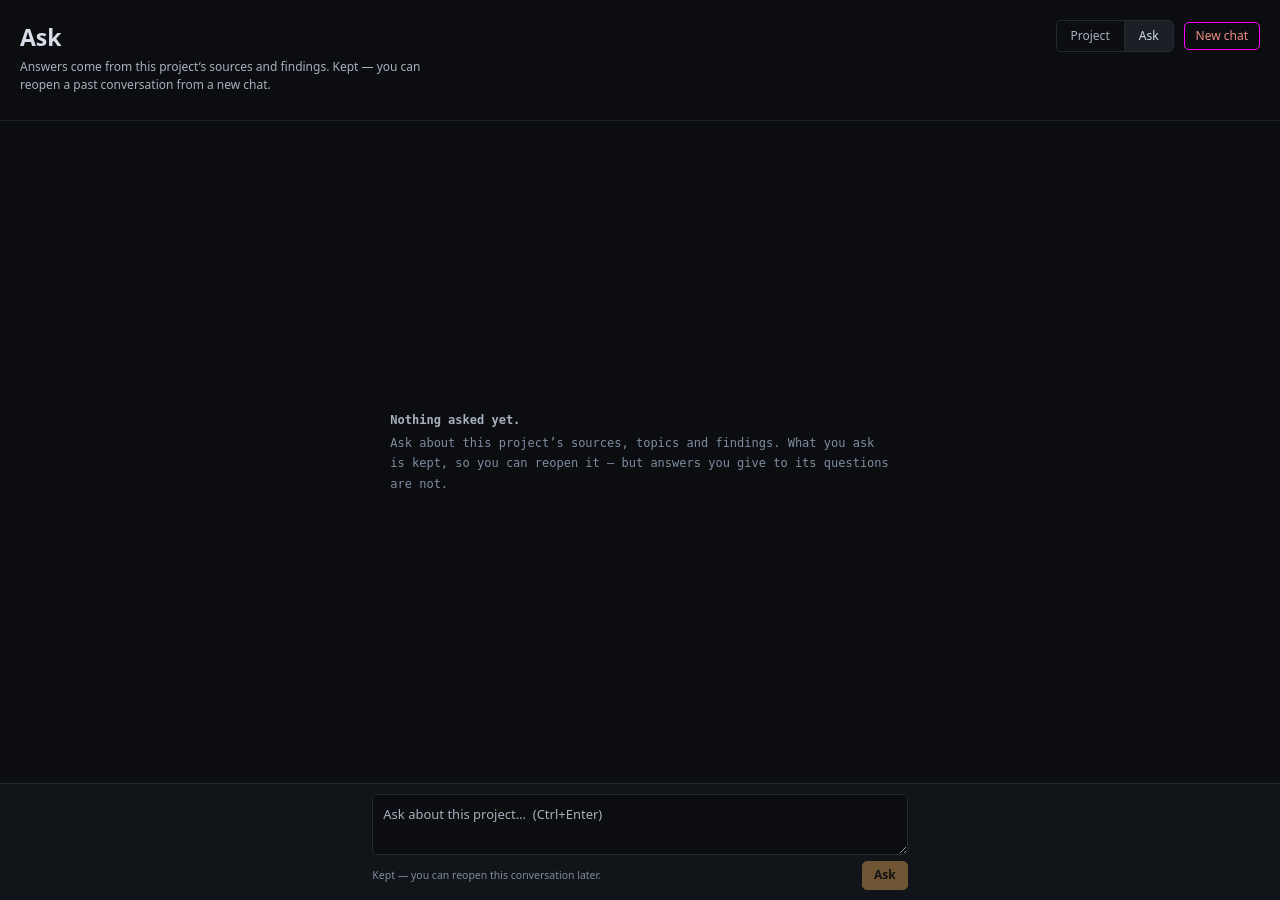
Test: turns a model-written source reference into a link
The image size is (1280, 900).
Type "why?" into the text box at {"x": 640, "y": 825}, box [372, 794, 908, 855]
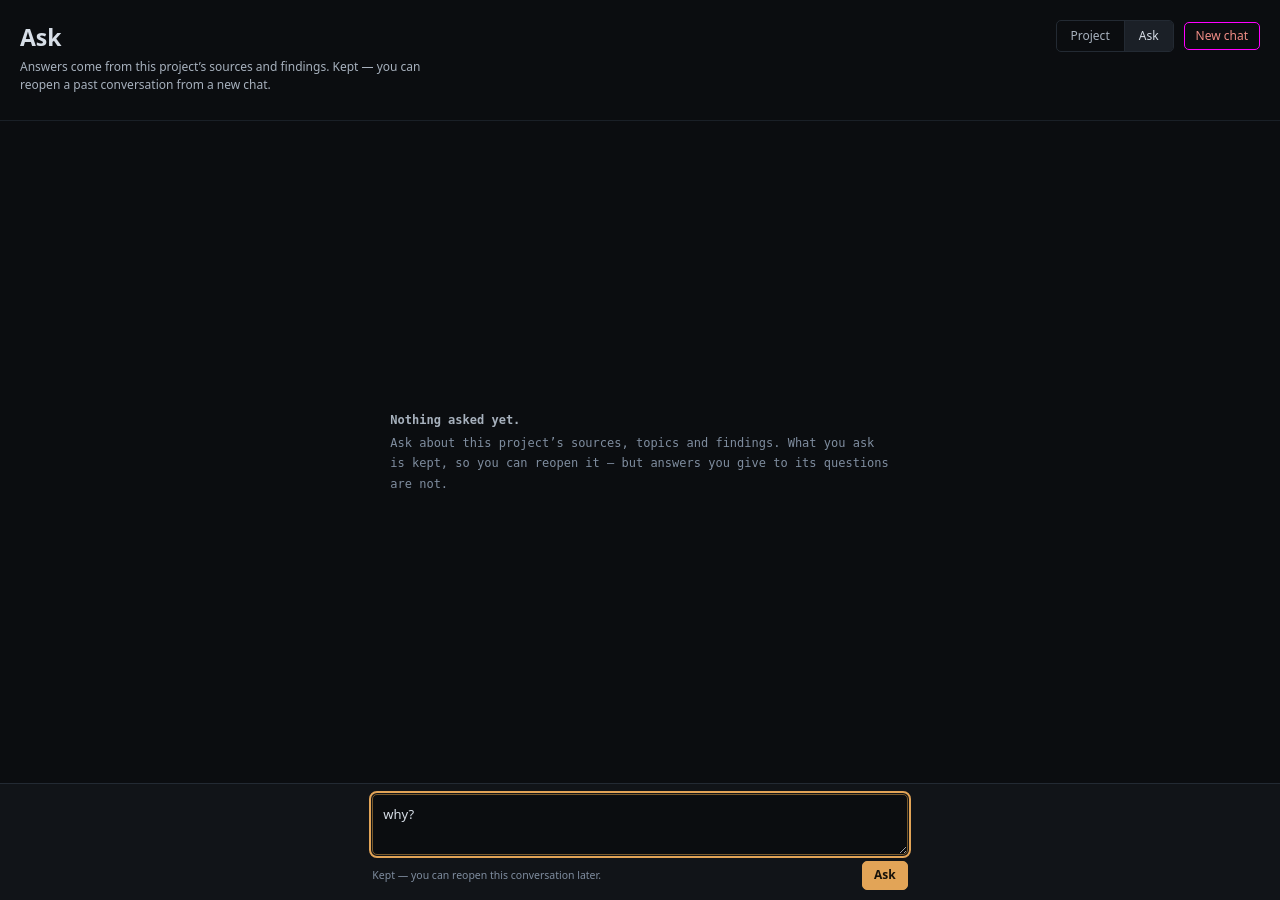
Click the button "Ask" at {"x": 885, "y": 876}, box [862, 861, 908, 890]
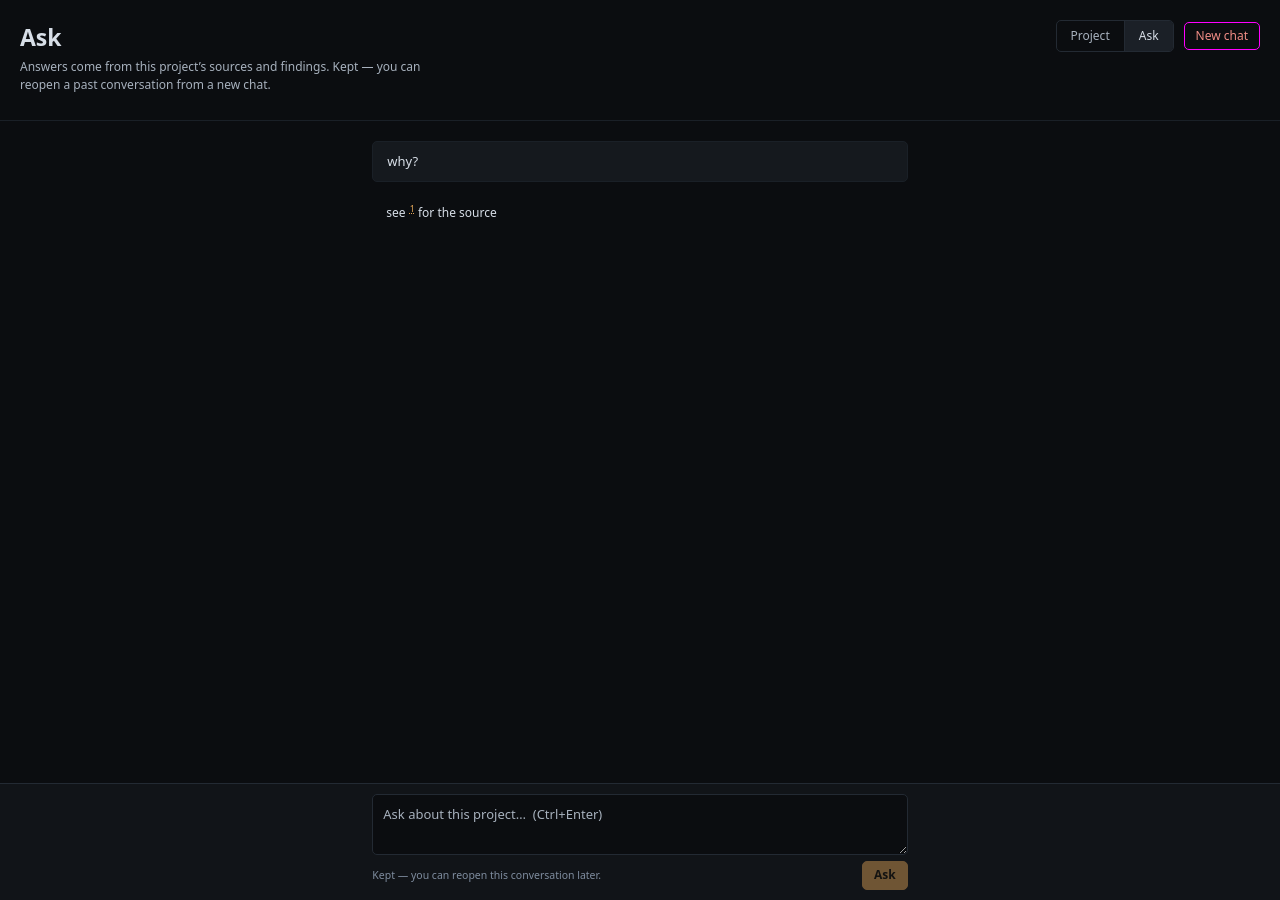
Expected: the link named "s1" reads "1", [410, 202, 415, 215]
